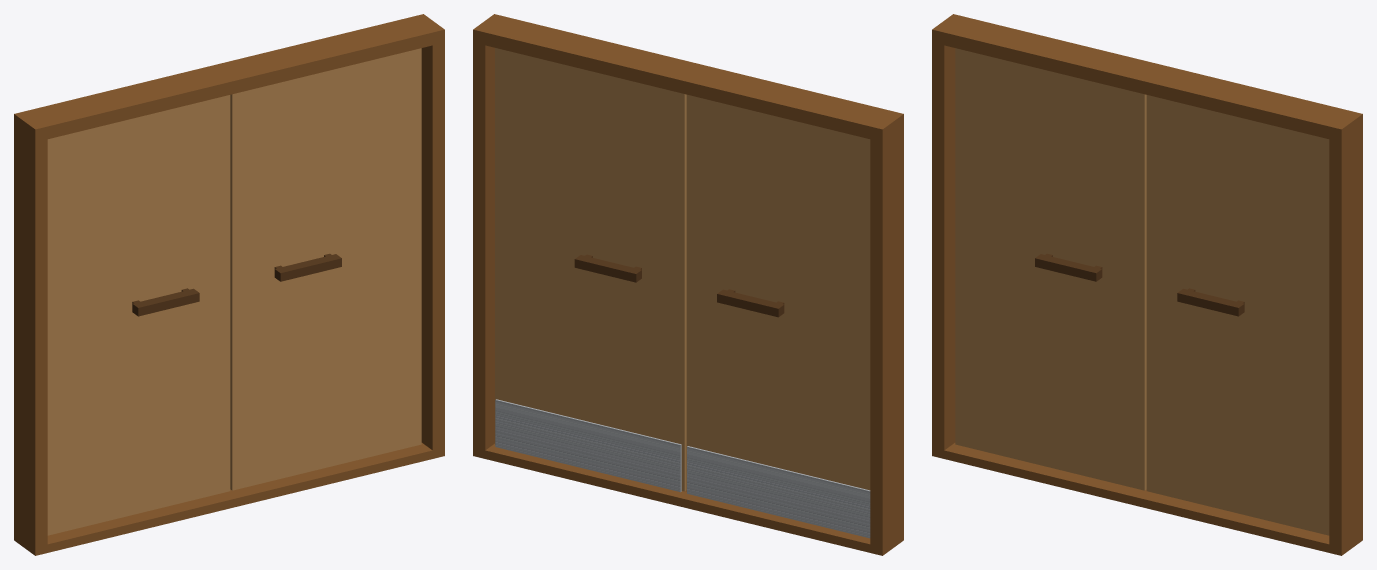
The model's file is door-wood-2.glb.
The picture shows the model from 3 angles, left to right: view 1: azimuth 30°, elevation 25°; view 2: azimuth 150°, elevation 25°; view 3: azimuth 330°, elevation 25°; orthographic projection.
Visible parts, largest first — view 1: passenger-swing-door (×2), DoorWood2; view 2: passenger-swing-door (×2), DoorWood2; view 3: passenger-swing-door (×2), DoorWood2.
Boxes of the visible parts, box(x1,y1,x2,y2) form: passenger-swing-door (×2): box(47, 48, 421, 535); DoorWood2: box(14, 14, 444, 555); passenger-swing-door (×2): box(495, 48, 870, 538); DoorWood2: box(473, 14, 903, 555); passenger-swing-door (×2): box(955, 48, 1329, 535); DoorWood2: box(932, 14, 1362, 555).
Bounding box in the file's own units: 2 × 1.99 × 0.19.
Materials: 4 (1 with a texture image).
